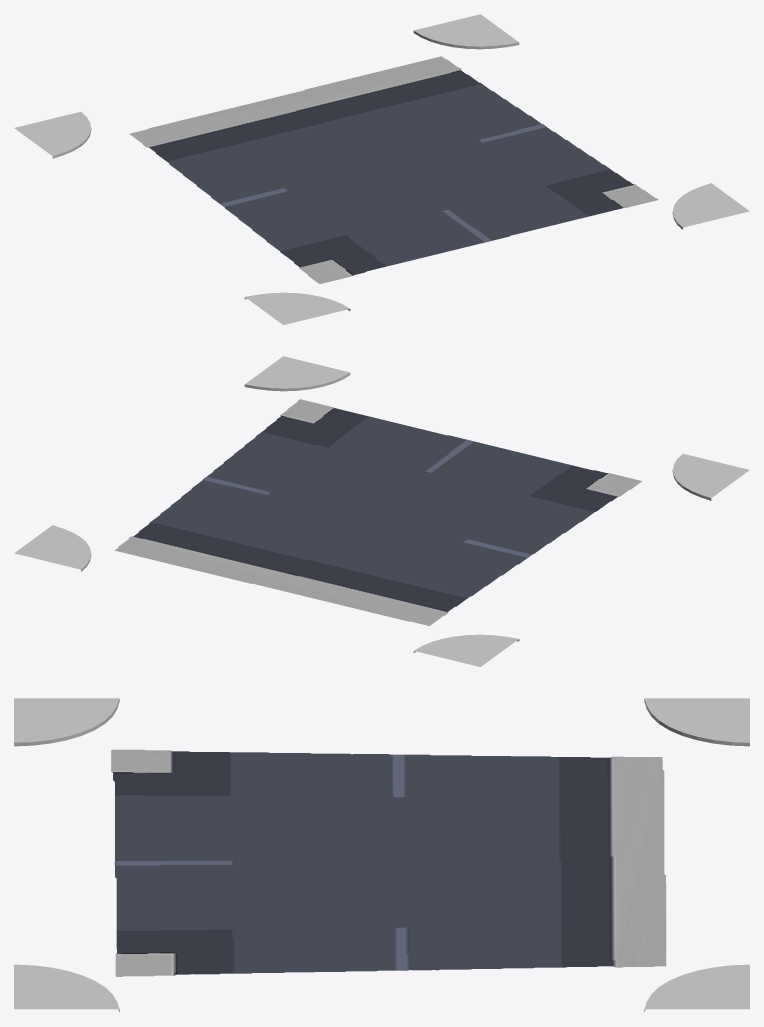
The model's file is Road_X.fbx.
3 views of the same model, one above another, from view 1: azimuth 30°, elevation 25°; view 2: azimuth 150°, elevation 25°; view 3: azimuth 270°, elevation 25° (orthographic). The views are drawn at different scales.
Parts seen in each view (by area): view 1: Road_X_Intersection; view 2: Road_X_Intersection; view 3: Road_X_Intersection.
Boxes of the visible parts, <box> form: Road_X_Intersection: <box>14,14,749,324</box>; Road_X_Intersection: <box>14,356,749,666</box>; Road_X_Intersection: <box>14,698,749,1012</box>.
Size of the model in its own units: 379 by 2.04 by 379.
